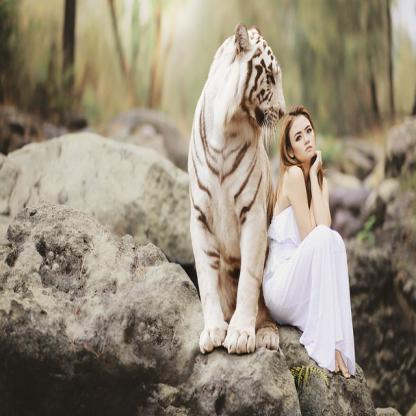cat: (188, 21, 287, 356)
